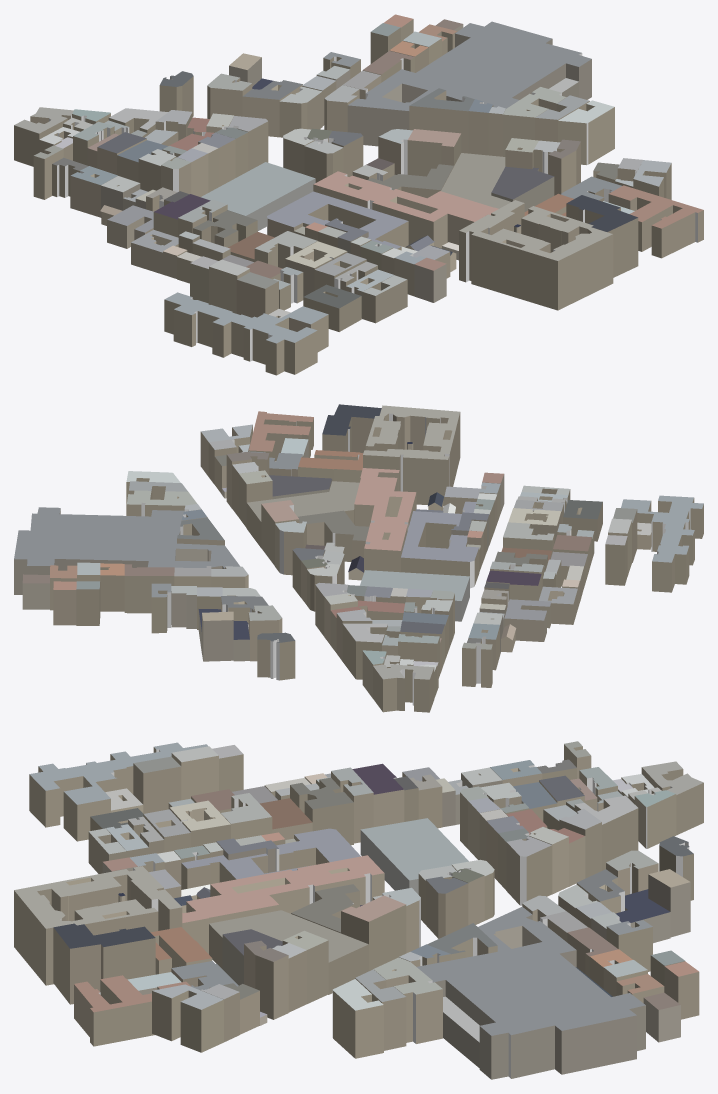
The picture shows the model from 3 angles, top to bottom: view 1: azimuth 30°, elevation 25°; view 2: azimuth 150°, elevation 25°; view 3: azimuth 270°, elevation 25°; orthographic projection. The views are drawn at different scales.
Visible parts, largest first — view 1: tuile; view 2: tuile; view 3: tuile.
Part boxes in pixels (x1,y1,x2,y2): tuile: (14,14,703,375); tuile: (14,404,703,712); tuile: (14,741,703,1079).
Bounding box in the file's own units: 310 × 31.99 × 291.
